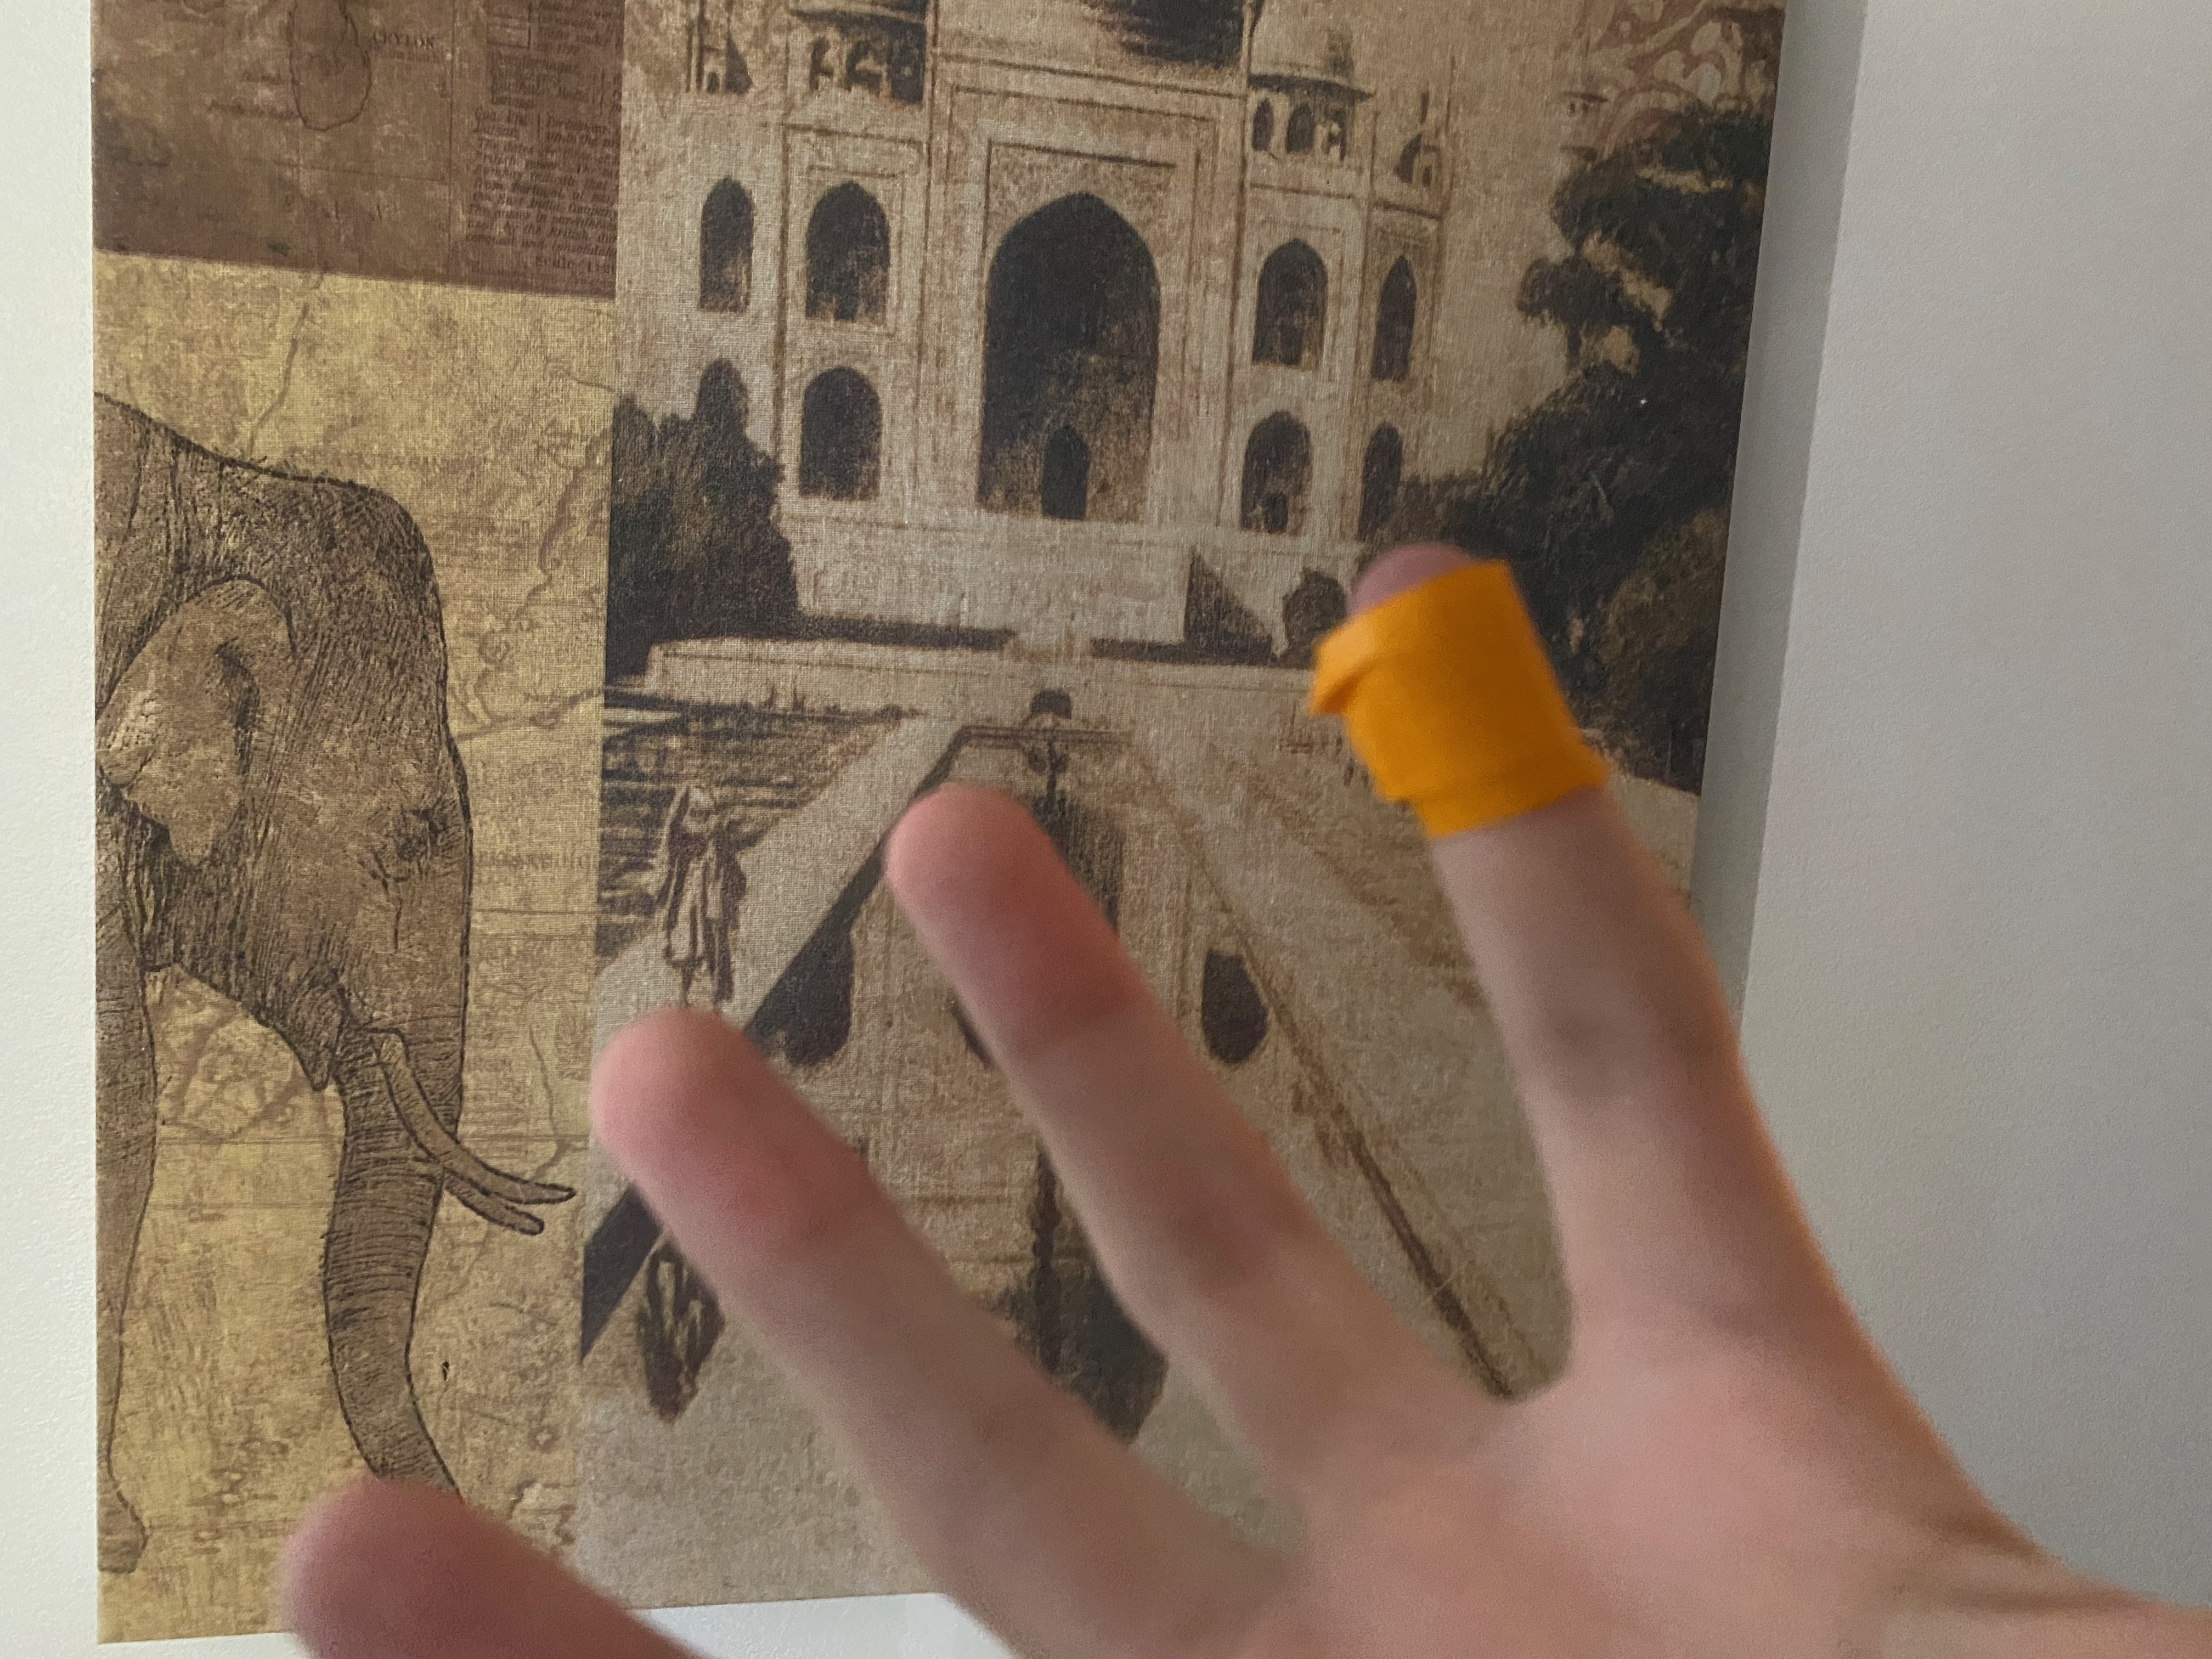fingertip: (1291, 514, 1679, 861)
